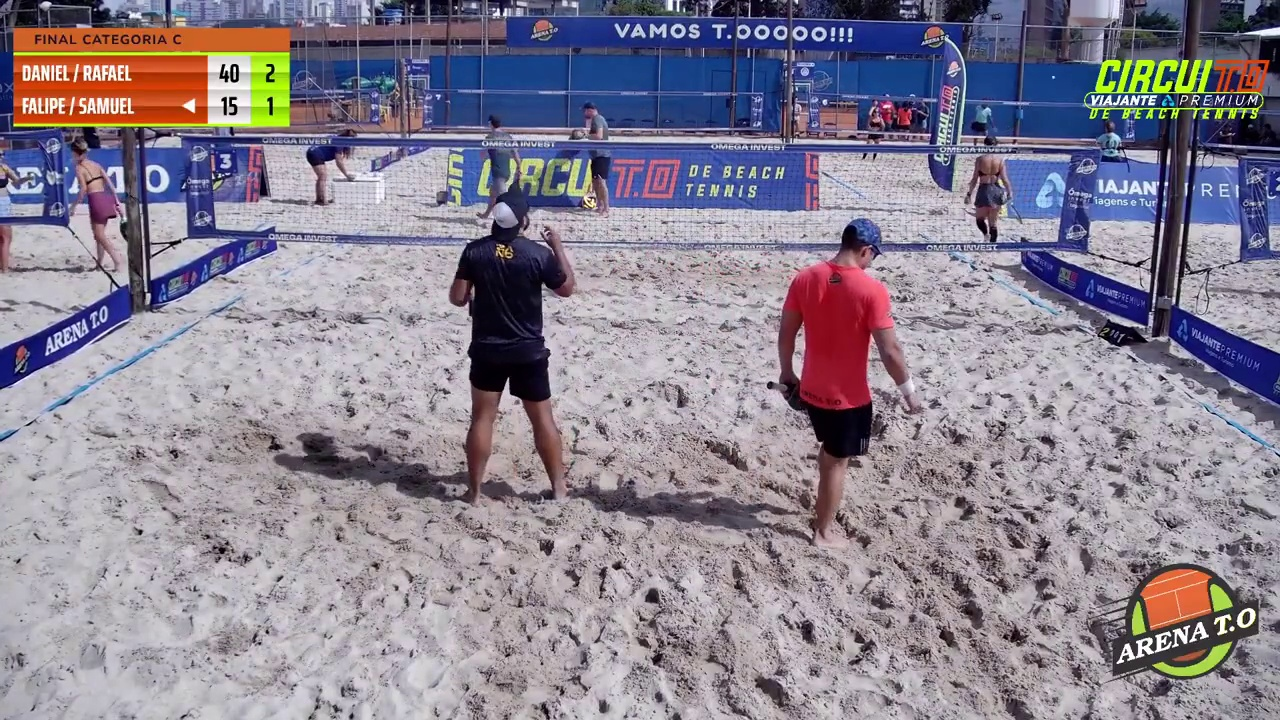court_line: (635, 0, 819, 536)
